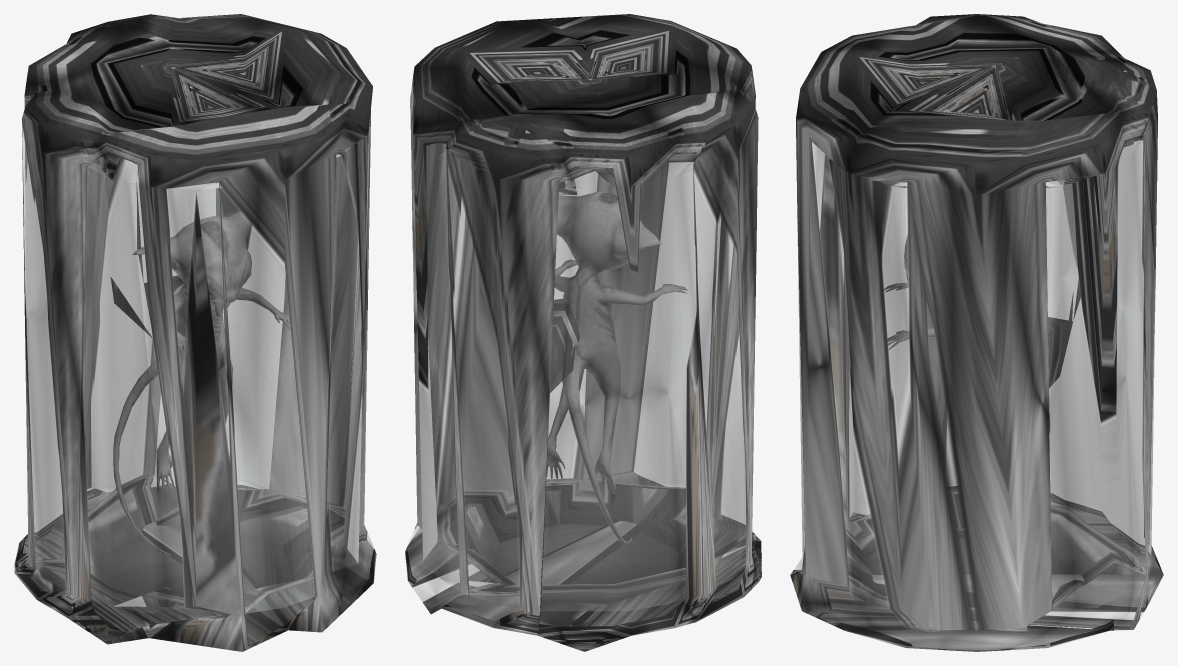
File: specimen_jar.glb
3 views of the same model, side by side, from view 1: azimuth 30°, elevation 25°; view 2: azimuth 150°, elevation 25°; view 3: azimuth 270°, elevation 25° (orthographic). The views are drawn at different scales.
Parts seen in each view (by area): view 1: specimen_jar; view 2: specimen_jar; view 3: specimen_jar.
Boxes of the visible parts, left/top/right/bottom form: specimen_jar: left=14, top=14, right=376, bottom=651; specimen_jar: left=405, top=14, right=761, bottom=651; specimen_jar: left=790, top=14, right=1163, bottom=651.
Size of the model in its own units: 0.325 by 0.5 by 0.3237.
2 materials, 2 textured.
